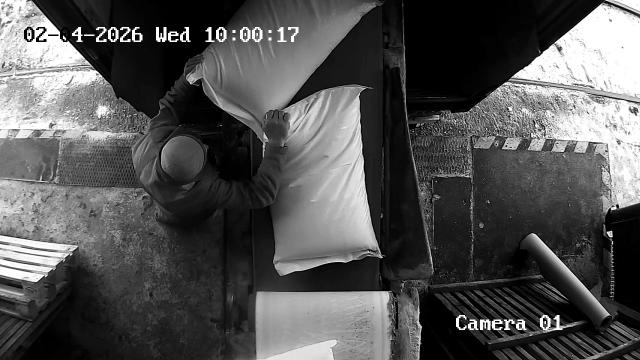bag: (190, 0, 383, 140), (264, 86, 382, 276)
